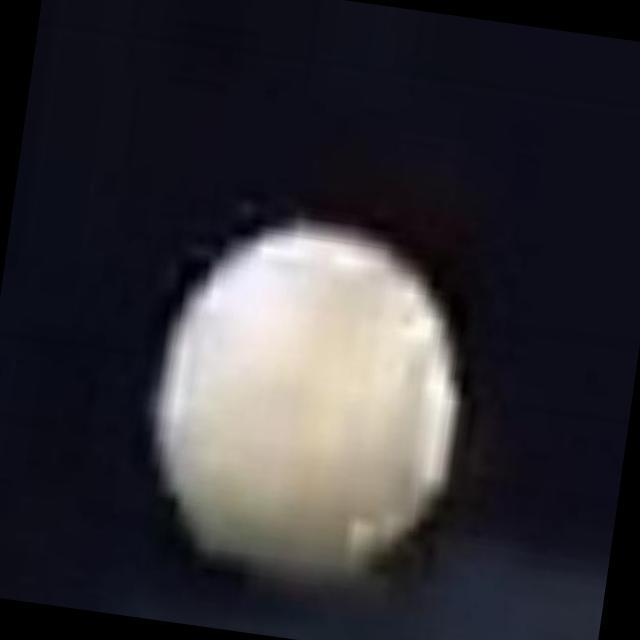-: (133, 197, 490, 592)
